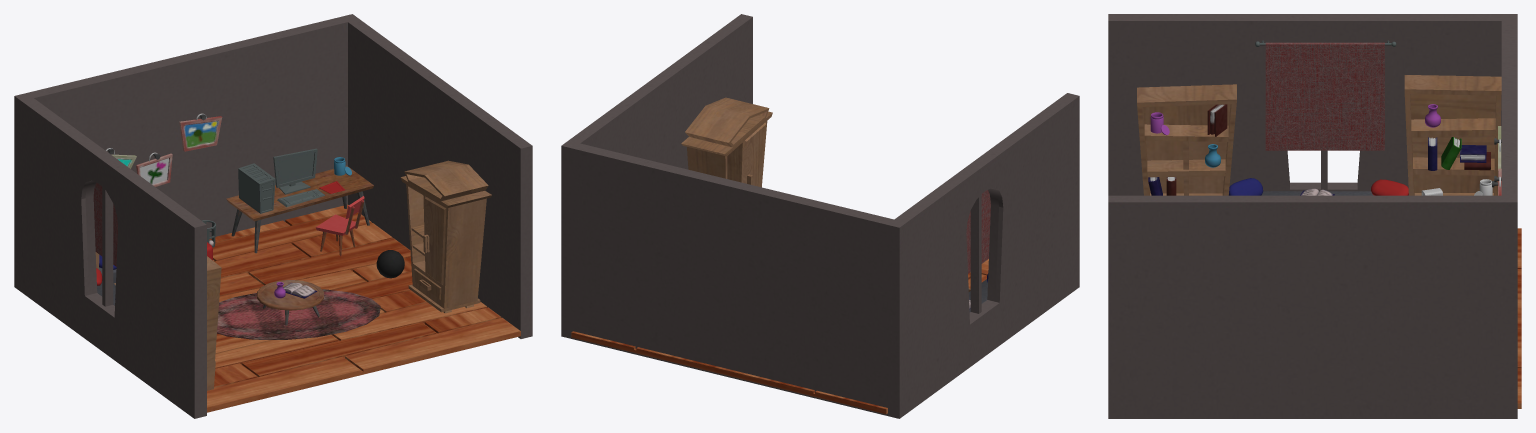
Rendered from childhood_bedroom.glb.
3 views of the same model, side by side, from view 1: azimuth 30°, elevation 25°; view 2: azimuth 150°, elevation 25°; view 3: azimuth 270°, elevation 25° (orthographic). The views are drawn at different scales.
Parts seen in each view (by area): view 1: Walls, Floor, Wardrobe, Rug, Table, Monitor, Main, PC, Coffee Table, Box002, Chair, Curtain roll (+2 smaller); view 2: Walls, Wardrobe, Floor, Curtain roll; view 3: Walls, Main, Curtain roll, Floor, Book003, Pillow002, Pillow003, Book, Book005, Pillow for Drawer.
Boxes of the visible parts, x1,y1,x2,y2 form: Walls: [14, 14, 532, 418]; Floor: [207, 204, 520, 412]; Wardrobe: [400, 160, 491, 313]; Rug: [217, 289, 380, 339]; Table: [226, 165, 373, 253]; Monitor: [273, 148, 317, 194]; Main: [95, 252, 221, 390]; PC: [238, 163, 275, 213]; Coffee Table: [257, 280, 323, 325]; Box002: [179, 116, 222, 151]; Chair: [315, 196, 364, 256]; Curtain roll: [93, 182, 117, 266]; Walls: [561, 14, 1079, 418]; Wardrobe: [681, 97, 772, 187]; Floor: [571, 259, 988, 414]; Curtain roll: [966, 190, 990, 273]; Walls: [1108, 14, 1517, 418]; Main: [1137, 75, 1501, 195]; Curtain roll: [1265, 42, 1384, 150]; Floor: [1517, 228, 1521, 408]; Book003: [1207, 104, 1227, 136]; Pillow002: [1371, 179, 1408, 195]; Pillow003: [1229, 178, 1263, 195]; Book: [1460, 145, 1486, 162]; Book005: [1441, 137, 1461, 169]; Pillow for Drawer: [1228, 191, 1408, 195].
Size of the model in its own units: 3.56 by 1.92 by 3.32.
Materials: 1 (1 with a texture image).
